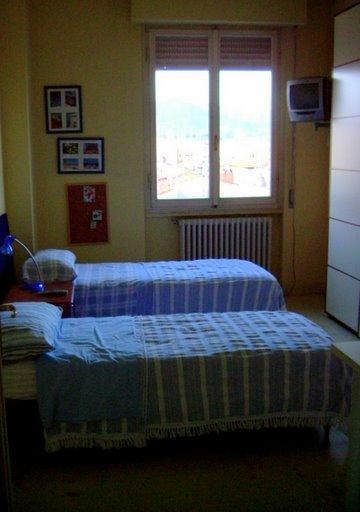Armario: (329, 16, 359, 334)
Cama: (5, 301, 345, 448), (35, 249, 293, 325)
Otro Obstaculo: (178, 216, 273, 266)
Ventana: (149, 28, 276, 204)
